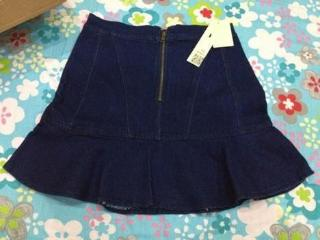skirt: (2, 13, 313, 215)
